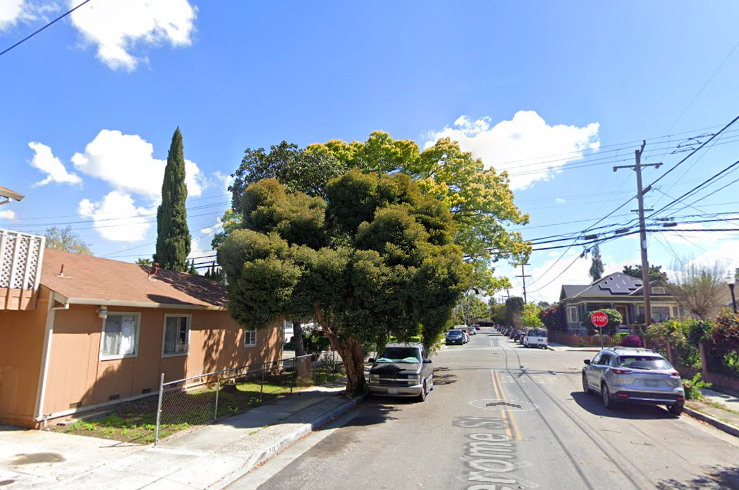tree: (215, 164, 468, 396)
